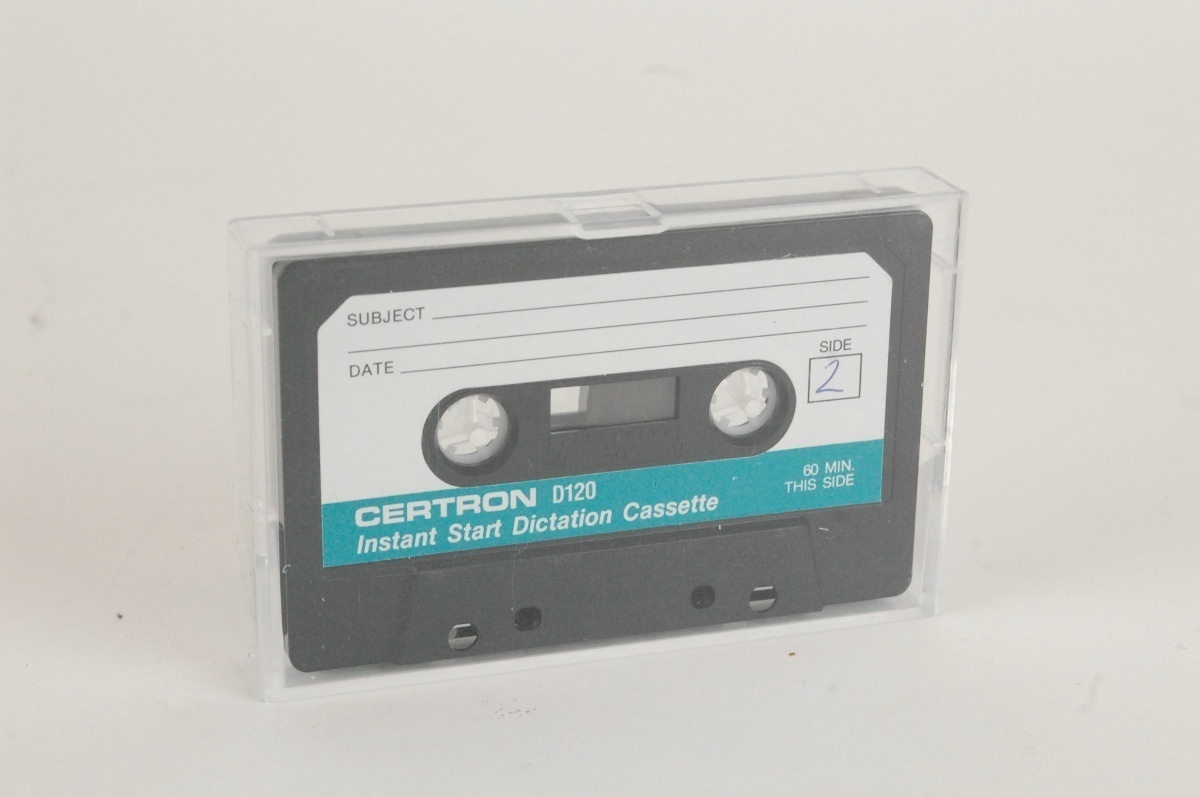Nonrec_Other: (162, 159, 1021, 683)
